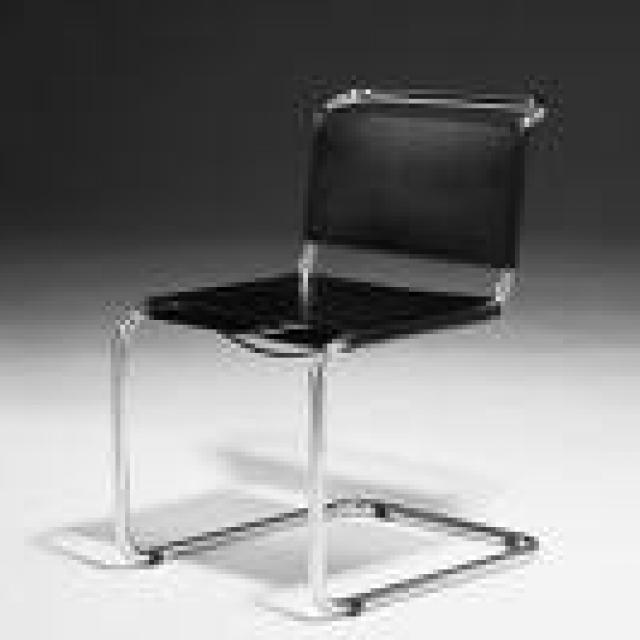chair: (106, 84, 560, 622)
